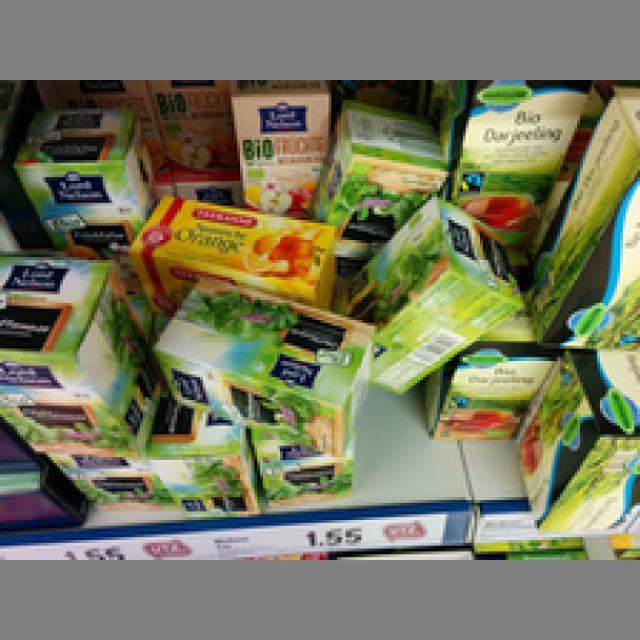groceries: (140, 274, 374, 446), (334, 194, 520, 397), (0, 252, 157, 452), (123, 188, 337, 308), (8, 103, 152, 240), (306, 97, 440, 240)
